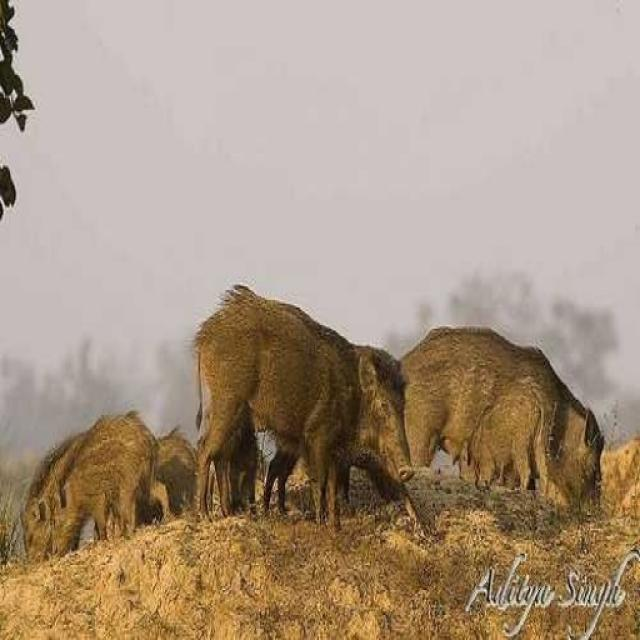pig: (400, 293, 640, 541), (220, 253, 415, 543), (43, 368, 229, 575)
